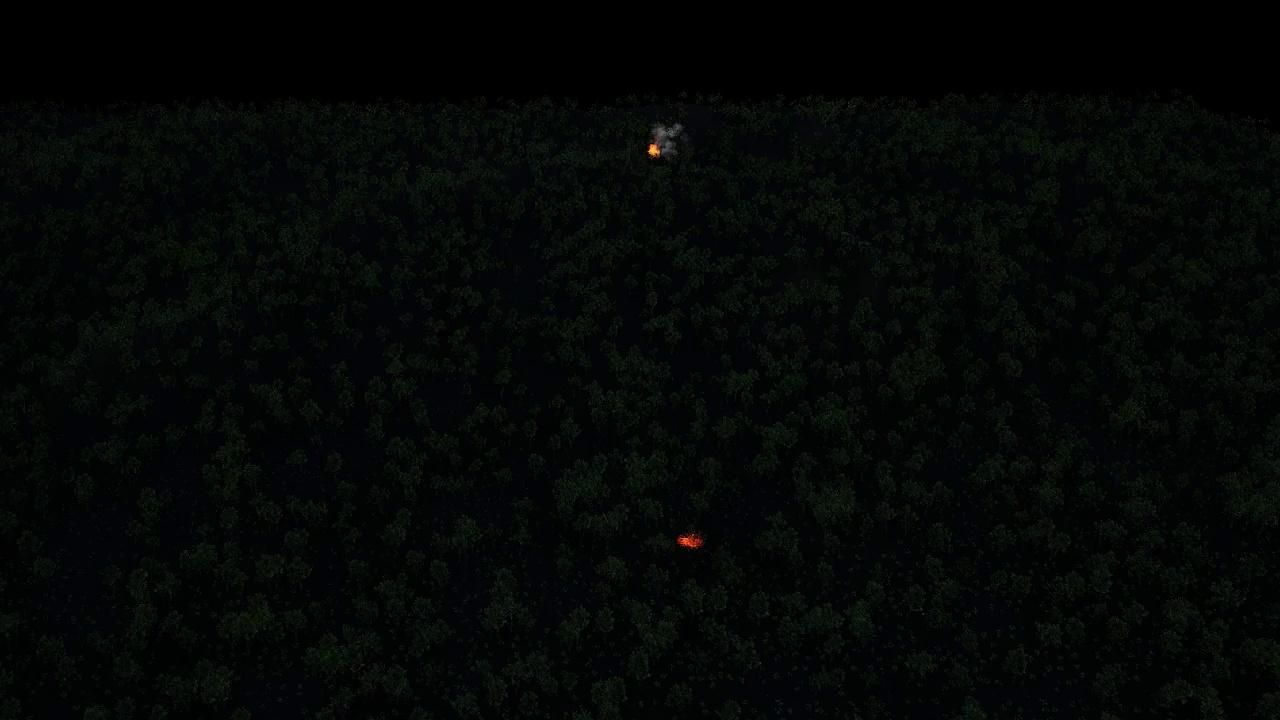fire: (679, 535, 705, 551), (646, 143, 661, 159)
smoke: (651, 118, 689, 150)
